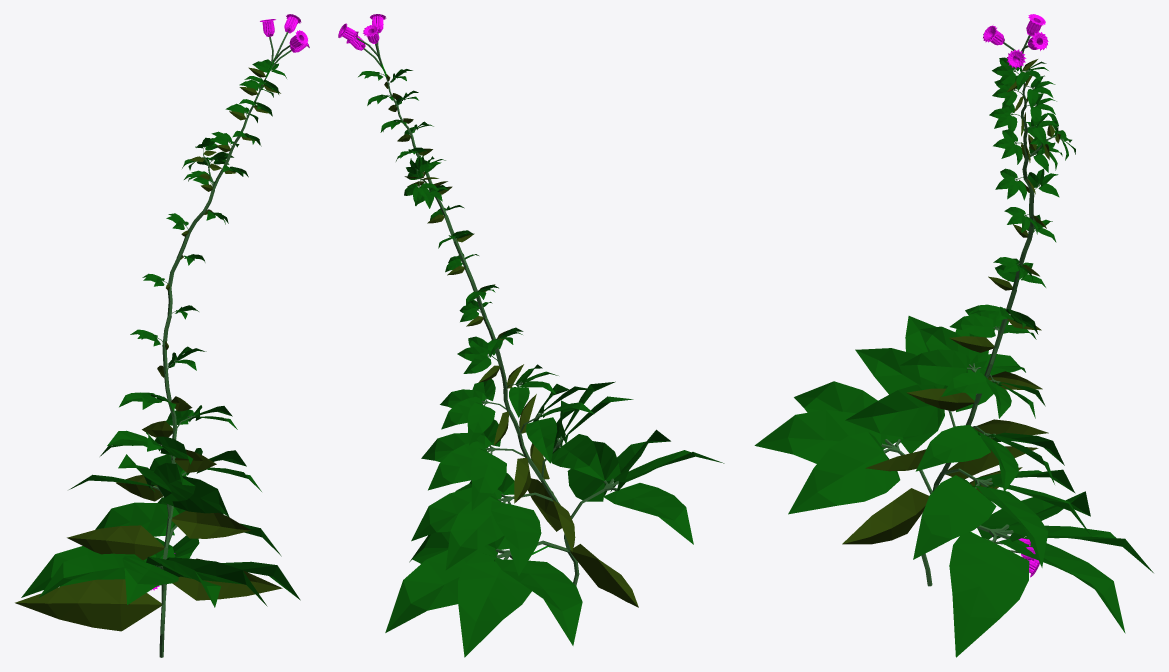
The model's file is plants1.obj.
3 renders of one model, left to right at view 1: azimuth 30°, elevation 25°; view 2: azimuth 150°, elevation 25°; view 3: azimuth 270°, elevation 25°, orthographic. The views are drawn at different scales.
Visible parts, largest first — view 1: 1Breeder; view 2: 1Breeder; view 3: 1Breeder.
Part boxes in pixels (x1,y1,x2,y2): 1Breeder: [15, 14, 309, 657]; 1Breeder: [338, 14, 724, 657]; 1Breeder: [754, 14, 1153, 657].
Bounding box in the file's own units: 522 × 923 × 511.
